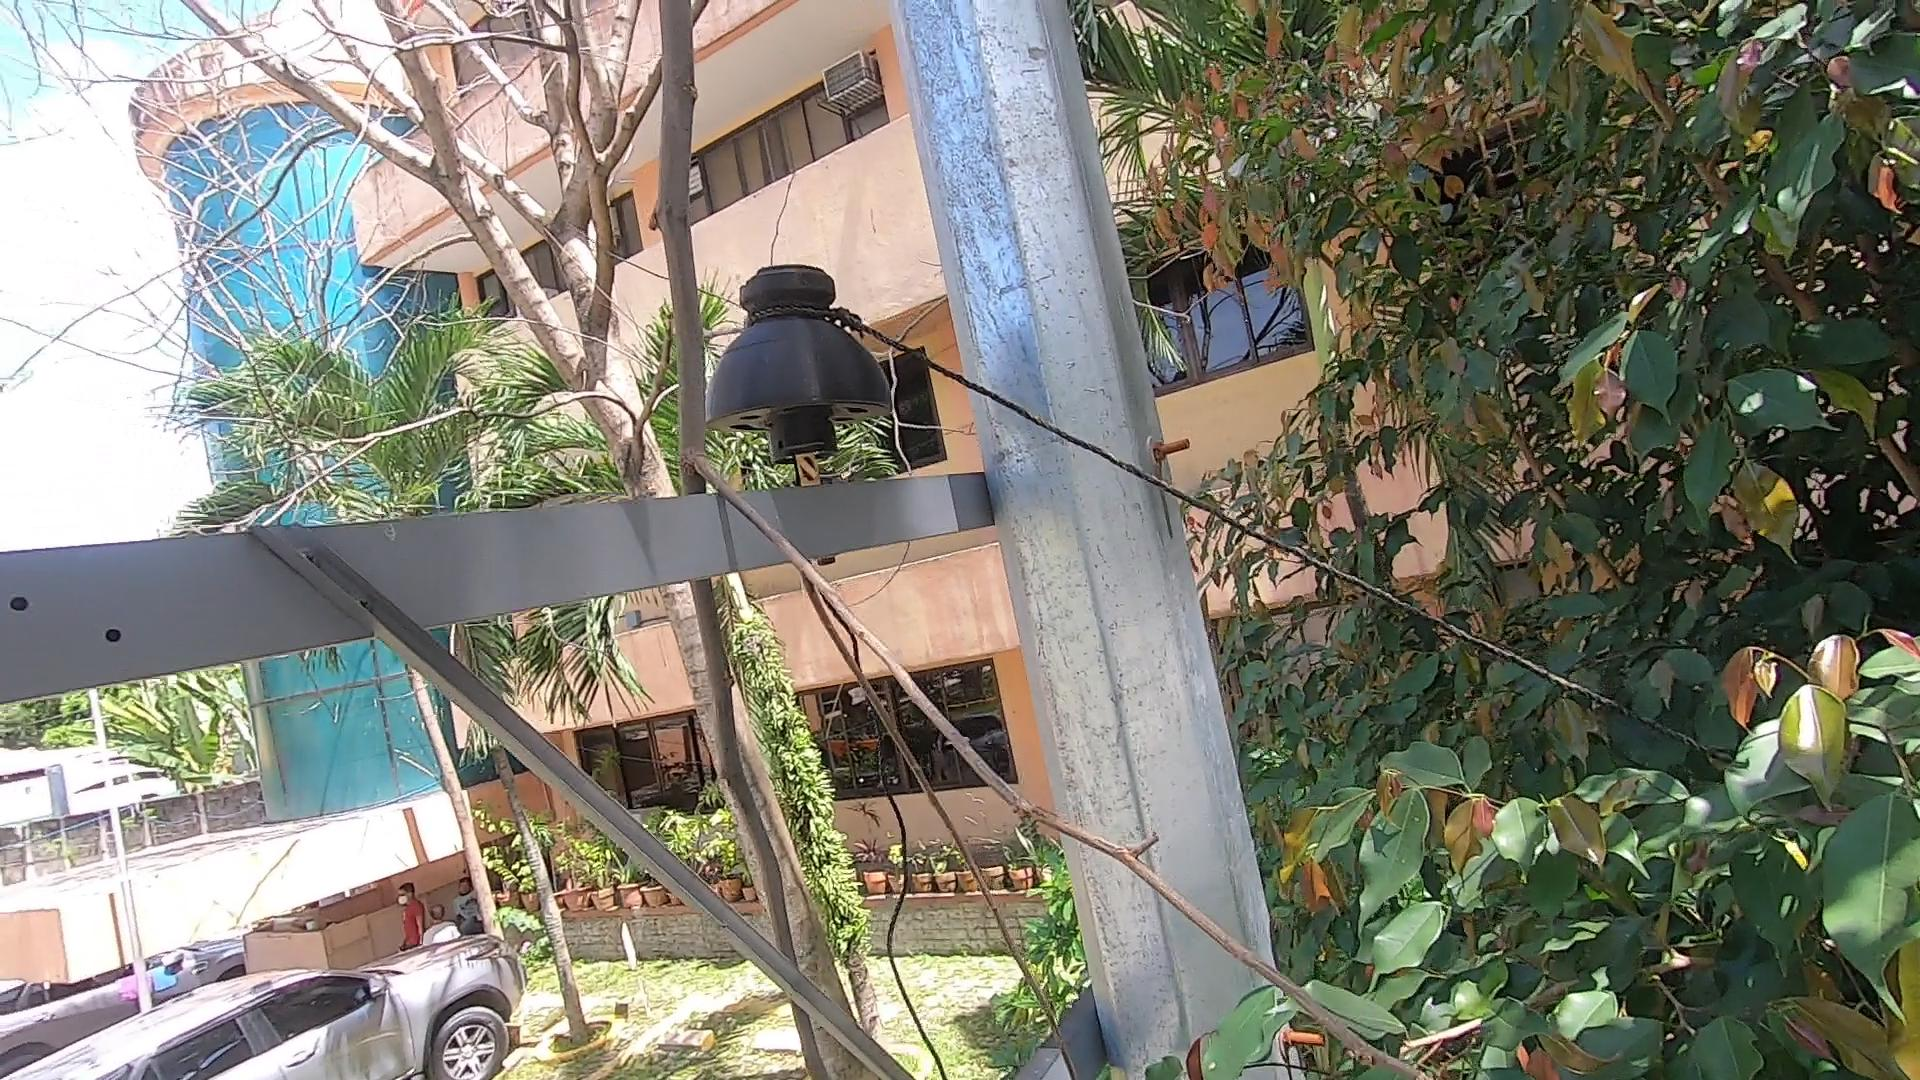tree branch: (588, 3, 1436, 1080)
